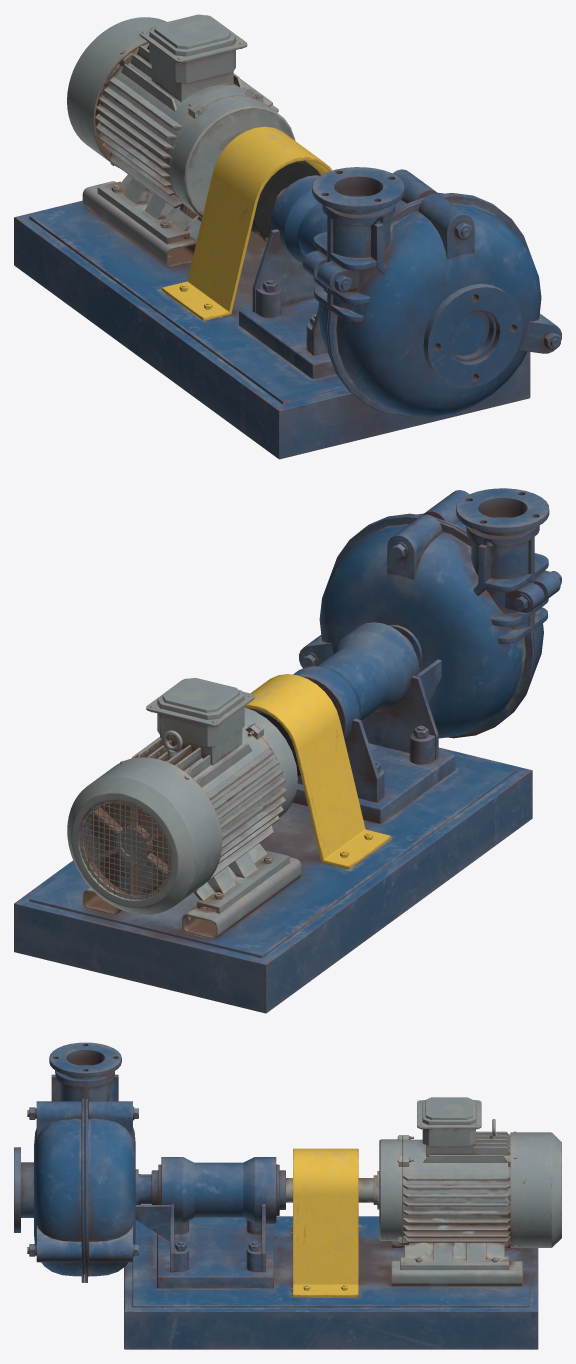
The model's file is pump-horizontal-v1-idle.glb.
3 views of the same model, one above another, from view 1: azimuth 30°, elevation 25°; view 2: azimuth 150°, elevation 25°; view 3: azimuth 270°, elevation 25° (orthographic). The views are drawn at different scales.
Visible parts, largest first — view 1: HorizontalEndSucitonPump; view 2: HorizontalEndSucitonPump; view 3: HorizontalEndSucitonPump.
Boxes of the visible parts, box(x1,y1,x2,y2) form: HorizontalEndSucitonPump: box(14, 14, 561, 459); HorizontalEndSucitonPump: box(14, 488, 561, 1013); HorizontalEndSucitonPump: box(14, 1042, 561, 1349).
Bounding box in the file's own units: 0.6707 × 0.7087 × 1.62.
Materials: 1 (1 with a texture image).
